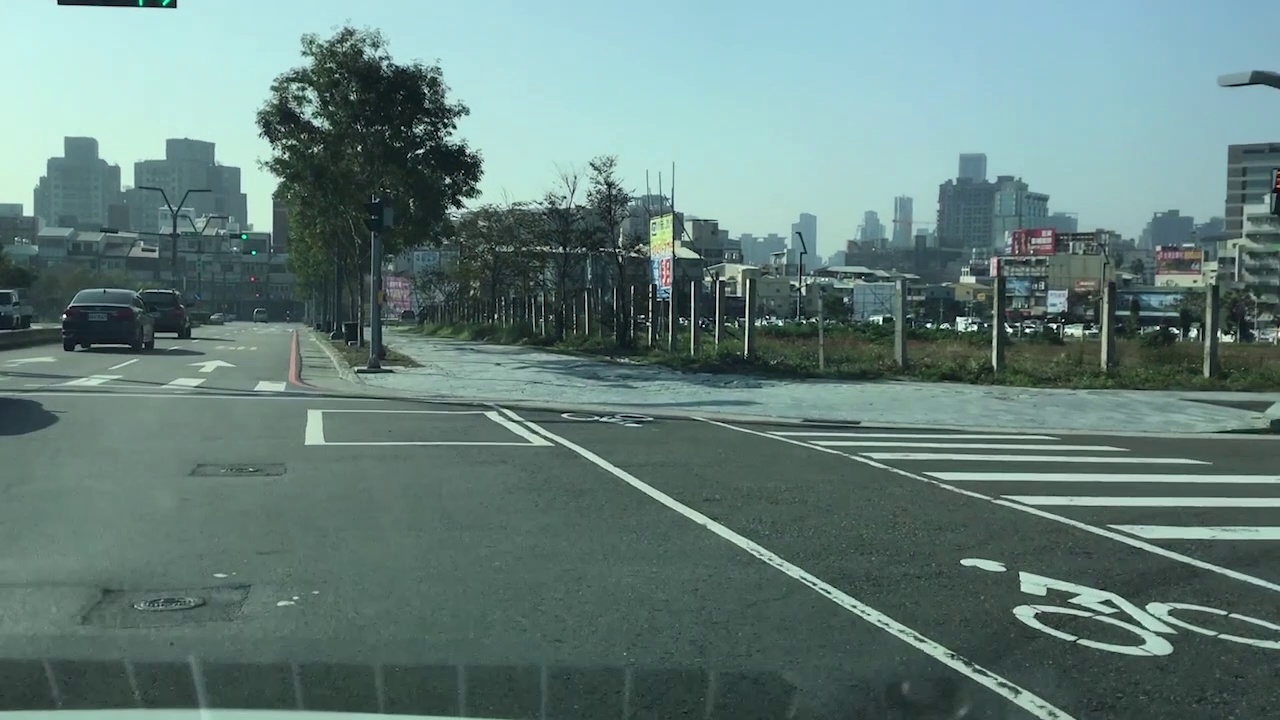Pedestrian_Crossing: (738, 430, 1274, 544), (50, 367, 286, 389)
